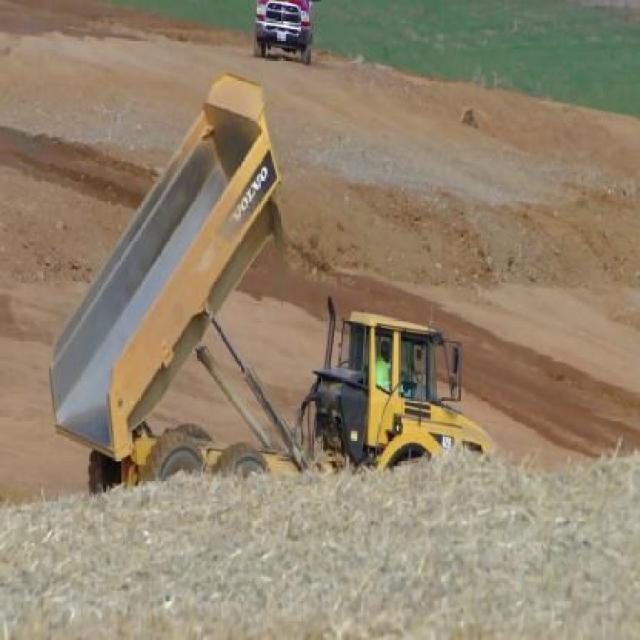Dump Truck: (45, 63, 500, 488)
